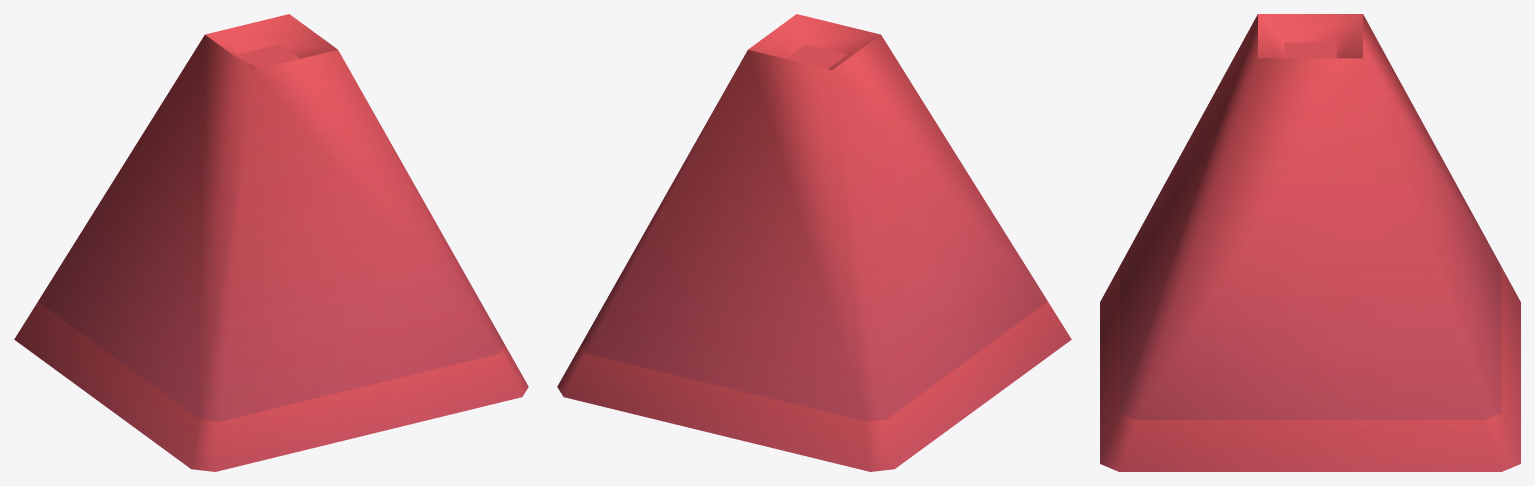
File: kenney-fantasy-town-roof-high-point.glb
The picture shows the model from 3 angles, left to right: view 1: azimuth 30°, elevation 25°; view 2: azimuth 150°, elevation 25°; view 3: azimuth 270°, elevation 25°; orthographic projection. The views are drawn at different scales.
Parts seen in each view (by area): view 1: roof-high-point; view 2: roof-high-point; view 3: roof-high-point.
Part boxes in pixels (x1,y1,x2,y2): roof-high-point: (14,14,528,471); roof-high-point: (557,14,1071,471); roof-high-point: (1100,14,1520,471).
Bounding box in the file's own units: 1.1 × 1 × 1.1.
Materials: 1 (1 with a texture image).
